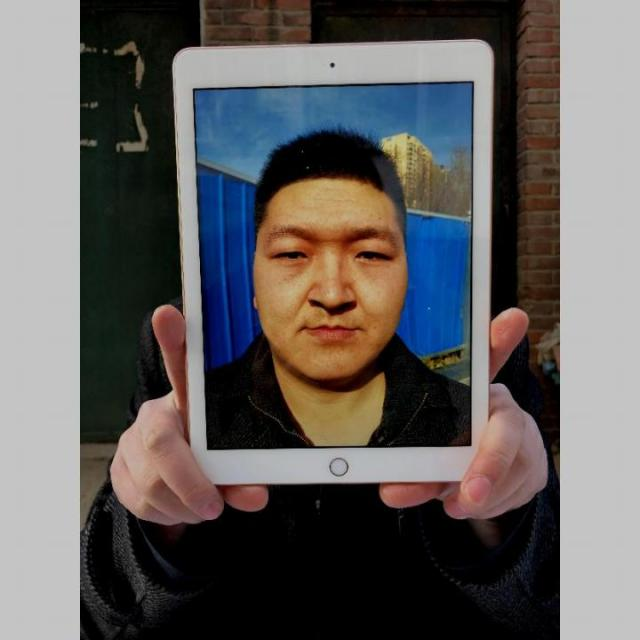device: (171, 37, 495, 491)
